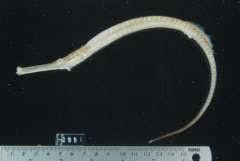Long-Snouted Pipefish: (16, 15, 218, 143)
